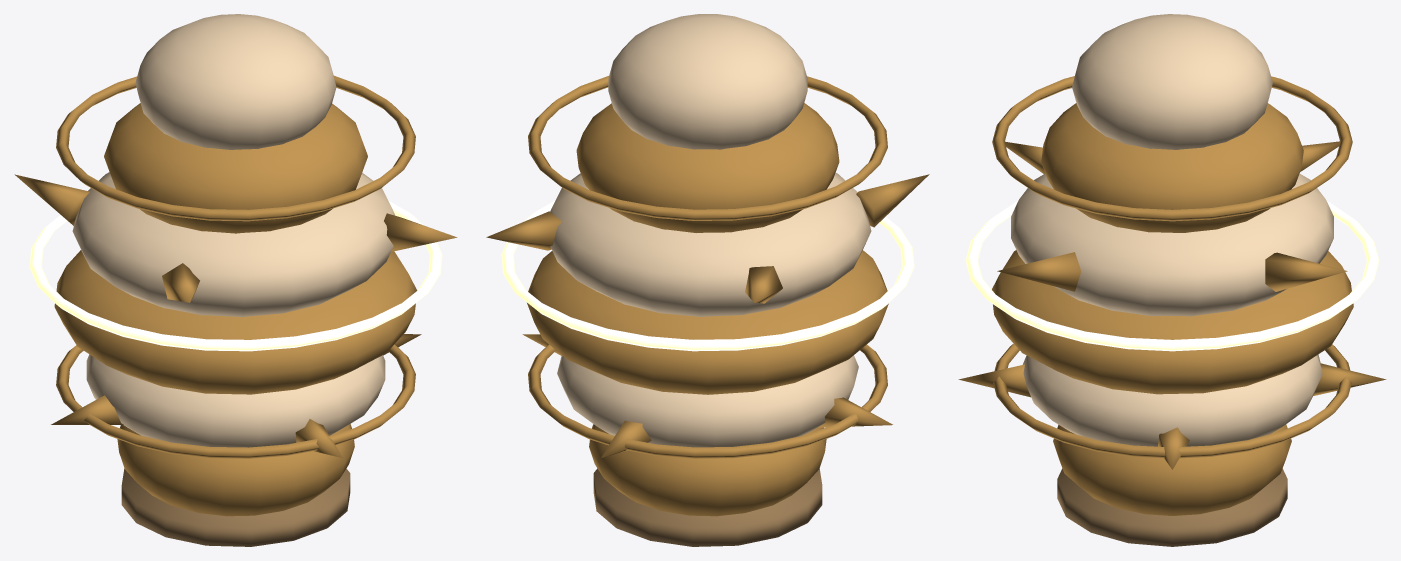
File: egg_desert_00.glb
3 views of the same model, side by side, from view 1: azimuth 30°, elevation 25°; view 2: azimuth 150°, elevation 25°; view 3: azimuth 270°, elevation 25° (orthographic).
Parts seen in each view (by area): view 1: ball; view 2: ball; view 3: ball.
Part boxes in pixels (x1=…): ball: x1=14, y1=14, x2=457, y2=546; ball: x1=486, y1=14, x2=929, y2=546; ball: x1=958, y1=14, x2=1386, y2=546.
Size of the model in its own units: 0.8182 by 0.99 by 0.8182.
